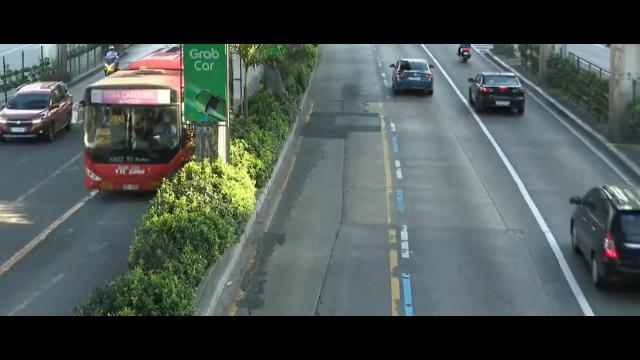bus: (84, 47, 205, 194)
car: (570, 184, 639, 285), (0, 72, 73, 140), (468, 73, 525, 112), (389, 57, 437, 97)
motorcycle: (103, 46, 122, 78), (456, 45, 476, 63)
